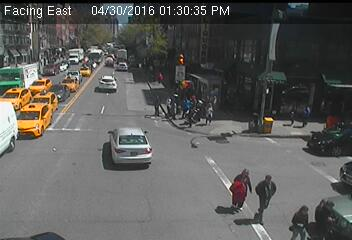neg: (69, 88, 99, 127), (86, 27, 113, 63), (12, 188, 37, 221), (26, 92, 50, 123), (183, 188, 206, 220), (38, 146, 60, 176), (165, 156, 187, 186), (283, 140, 305, 169), (102, 127, 124, 155), (11, 38, 32, 66), (280, 33, 300, 60), (7, 93, 27, 120), (142, 154, 162, 180), (230, 42, 250, 68), (165, 30, 184, 56), (50, 30, 68, 55), (230, 124, 247, 146), (117, 34, 134, 56), (74, 166, 91, 188), (117, 156, 131, 175), (248, 112, 262, 131), (152, 185, 166, 203), (252, 78, 265, 97), (82, 208, 95, 225), (338, 150, 350, 166), (223, 93, 235, 109), (199, 50, 210, 65), (197, 146, 208, 161), (112, 81, 120, 92), (143, 67, 149, 75), (118, 110, 121, 113)
pos: (174, 88, 213, 141), (219, 161, 257, 212), (245, 171, 282, 219), (310, 193, 340, 233), (284, 200, 311, 235), (162, 88, 188, 122), (293, 100, 318, 133), (282, 101, 307, 134), (200, 100, 222, 130), (147, 92, 168, 120)
